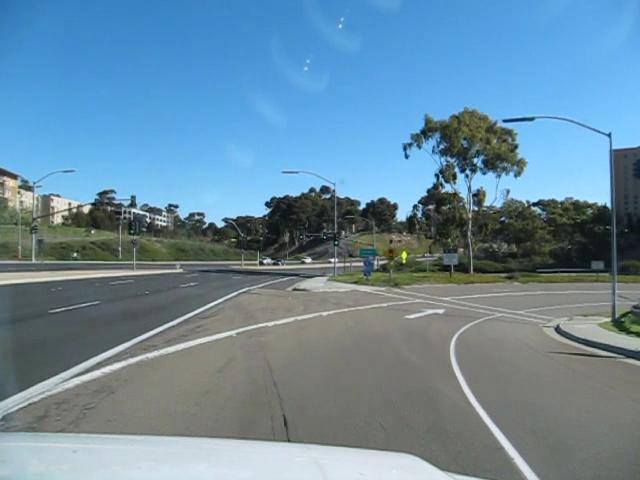signalAhead: (381, 245, 400, 262)
